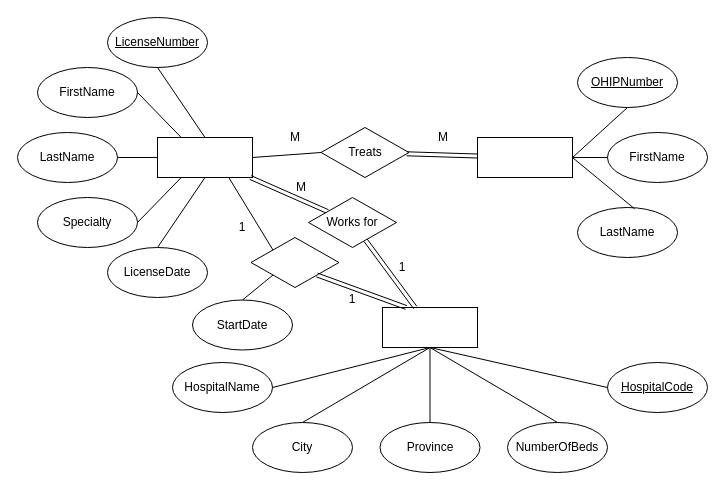
Image size: 725x490. Some labels were removed from this diagram. Each missing label, with the box of its shape:
Doctor: (156, 136, 252, 178)
Head of: (250, 236, 339, 288)
Hospital: (382, 306, 478, 348)
Patients: (476, 136, 572, 178)
